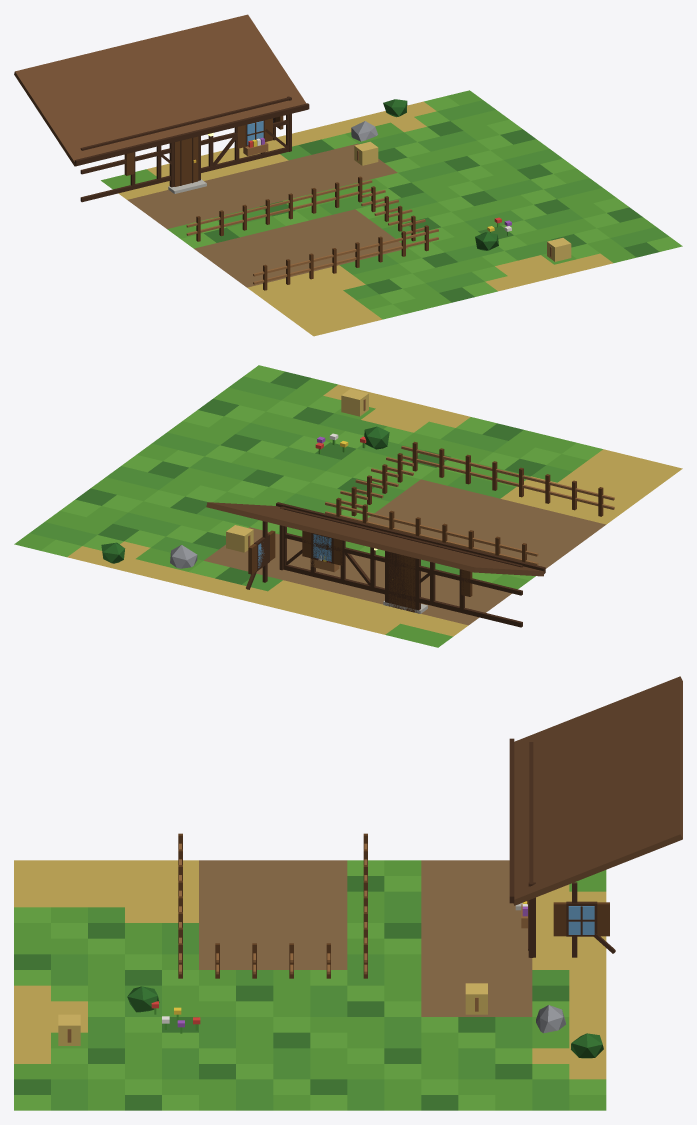
The model's file is chunk_10_10.glb.
3 views of the same model, one above another, from view 1: azimuth 30°, elevation 25°; view 2: azimuth 150°, elevation 25°; view 3: azimuth 270°, elevation 25° (orthographic). The views are drawn at different scales.
Parts seen in each view (by area): view 1: chunk_10_10; view 2: chunk_10_10; view 3: chunk_10_10.
Part boxes in pixels (bbox=[...]): chunk_10_10: bbox=[14, 14, 682, 336]; chunk_10_10: bbox=[14, 365, 682, 647]; chunk_10_10: bbox=[14, 676, 682, 1110].
Size of the model in its own units: 18.55 by 4.58 by 18.07.
